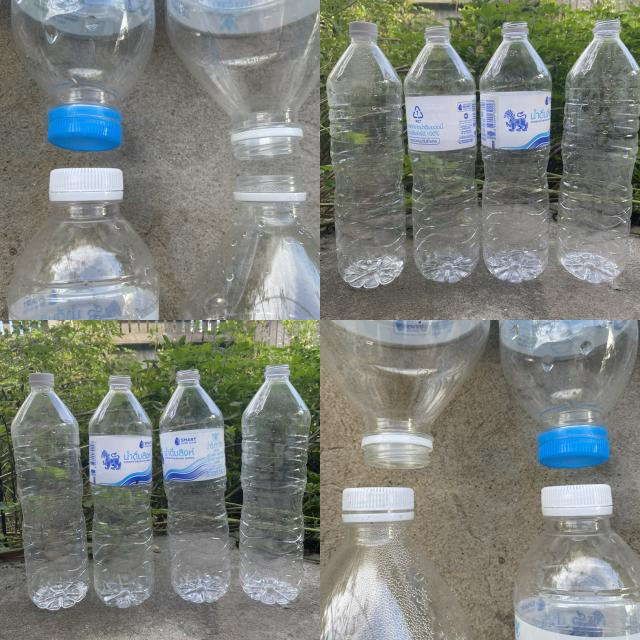plastik: (320, 320, 490, 468), (166, 0, 319, 159), (320, 488, 472, 640), (8, 168, 159, 319), (556, 20, 640, 282), (11, 0, 155, 151), (326, 21, 406, 288), (500, 320, 639, 468), (181, 175, 320, 320), (515, 484, 640, 640), (404, 26, 480, 282), (480, 21, 552, 282), (11, 374, 89, 609), (240, 365, 311, 604), (159, 370, 231, 602), (89, 375, 154, 608)
